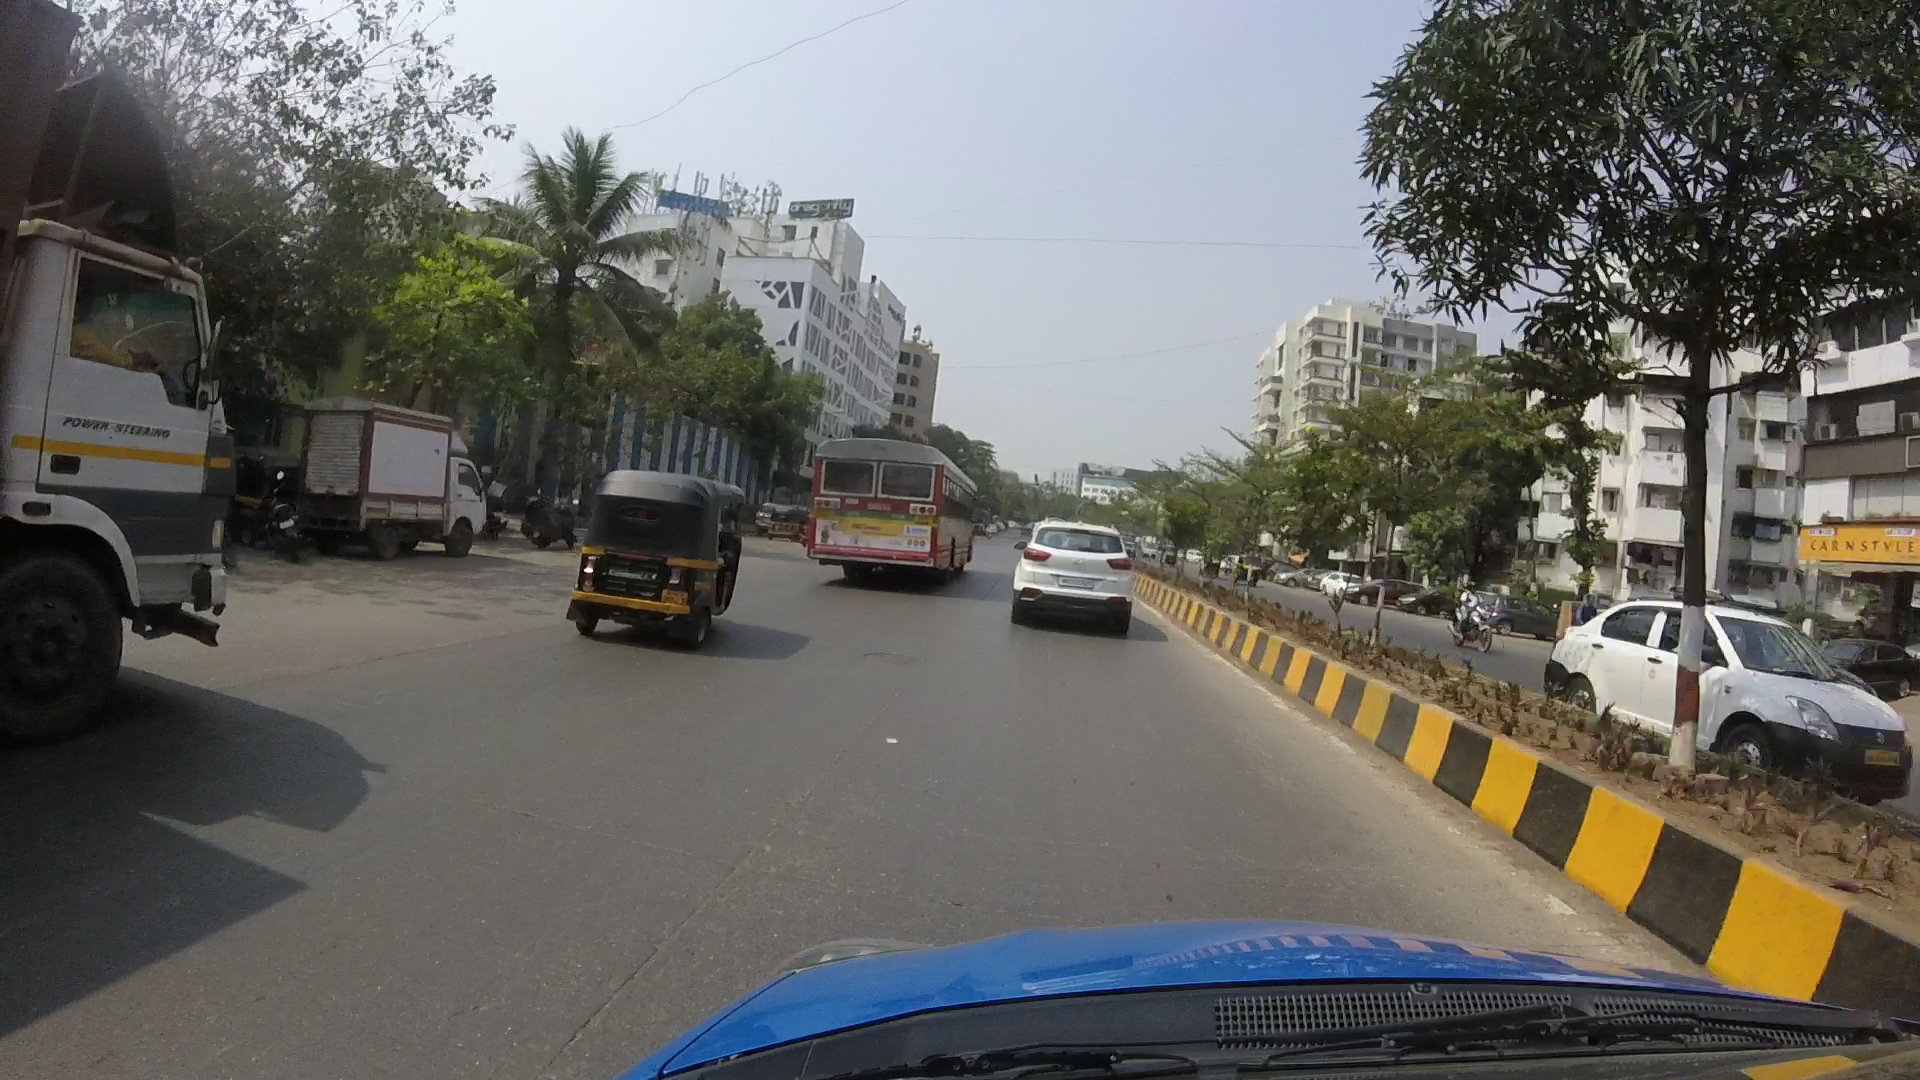bus: (814, 433, 986, 583)
car: (1545, 592, 1916, 800), (1002, 513, 1143, 624)
rickshaw: (572, 469, 749, 636)
truck: (7, 214, 227, 727), (311, 398, 487, 556)
